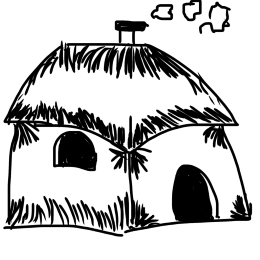closed_window: (41, 125, 100, 177)
door: (164, 162, 222, 230)
roof: (3, 38, 242, 131)
smoking_chimney: (106, 0, 240, 54)
wall: (3, 110, 254, 238)
